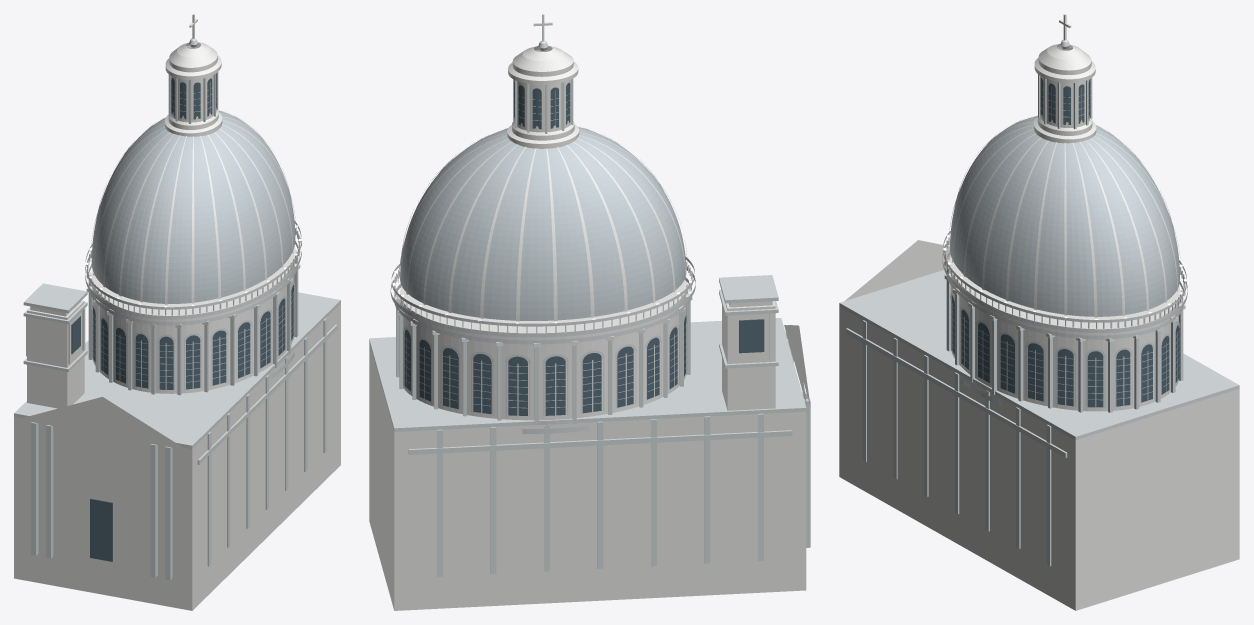
The model's file is valletta-dome.glb.
3 views of the same model, side by side, from view 1: azimuth 30°, elevation 25°; view 2: azimuth 150°, elevation 25°; view 3: azimuth 270°, elevation 25° (orthographic). The views are drawn at different scales.
Visible parts, largest first — view 1: Kirchenbau und Giebelfassade, Gerippte ovale Kuppel, Ovaler Tambour mit Bogenfenstern, Kleiner seitlicher Glockenturm, Laterne und Kreuz; view 2: Kirchenbau und Giebelfassade, Gerippte ovale Kuppel, Ovaler Tambour mit Bogenfenstern, Kleiner seitlicher Glockenturm, Laterne und Kreuz; view 3: Kirchenbau und Giebelfassade, Gerippte ovale Kuppel, Ovaler Tambour mit Bogenfenstern, Laterne und Kreuz.
Boxes of the visible parts, <box> form: Kirchenbau und Giebelfassade: <box>14,292,340,610</box>; Gerippte ovale Kuppel: <box>90,110,296,304</box>; Ovaler Tambour mit Bogenfenstern: <box>85,221,301,395</box>; Kleiner seitlicher Glockenturm: <box>23,283,87,408</box>; Laterne und Kreuz: <box>164,14,222,136</box>; Kirchenbau und Giebelfassade: <box>369,318,810,610</box>; Gerippte ovale Kuppel: <box>398,127,687,321</box>; Ovaler Tambour mit Bogenfenstern: <box>390,257,695,433</box>; Kleiner seitlicher Glockenturm: <box>719,275,778,410</box>; Laterne und Kreuz: <box>507,14,579,148</box>; Kirchenbau und Giebelfassade: <box>839,240,1239,610</box>; Gerippte ovale Kuppel: <box>948,115,1181,317</box>; Ovaler Tambour mit Bogenfenstern: <box>942,230,1187,412</box>; Laterne und Kreuz: <box>1033,14,1096,143</box>.
Bounding box in the file's own units: 51.34 × 66.8 × 46.79.
